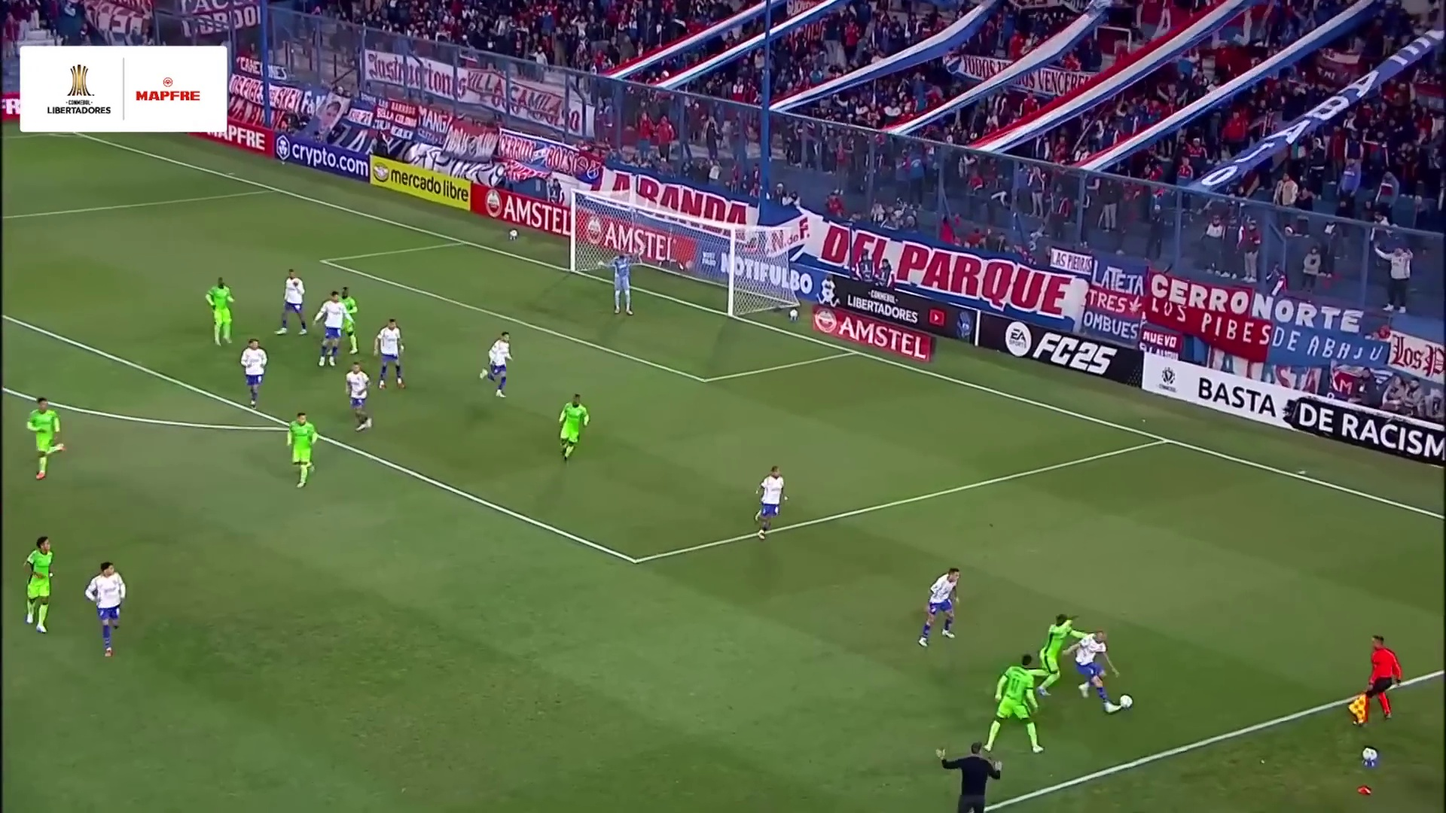ball: (1112, 693, 1135, 714)
player: (982, 652, 1049, 756), (1062, 626, 1130, 713), (81, 559, 132, 660), (915, 565, 967, 649), (19, 534, 60, 635), (22, 396, 70, 482), (1034, 612, 1078, 698), (749, 465, 792, 542), (282, 411, 323, 490), (371, 318, 411, 392), (476, 330, 518, 399), (553, 392, 593, 463), (202, 277, 240, 348), (311, 291, 346, 368), (236, 338, 272, 412), (274, 268, 312, 337), (341, 363, 376, 434), (607, 251, 638, 319), (338, 286, 363, 355)
referee: (1344, 633, 1405, 729)
